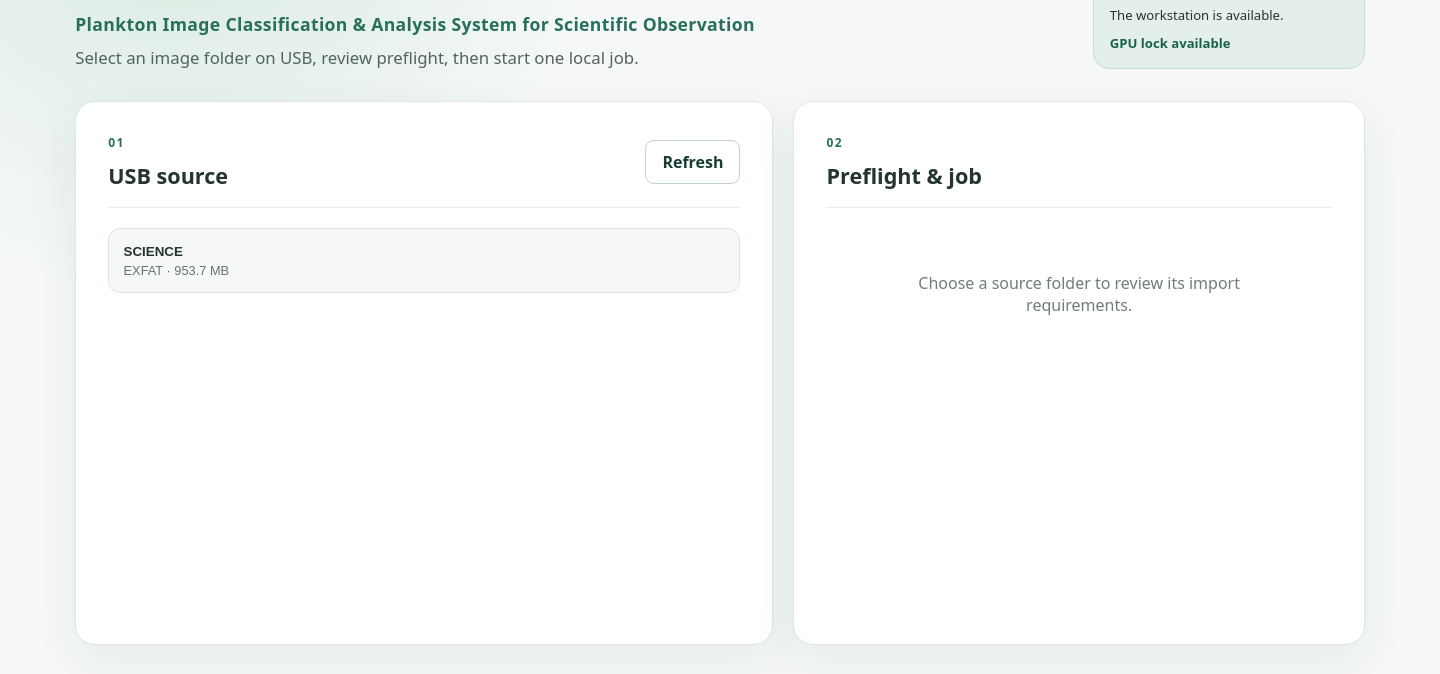
initial refusal USB host service request failed (503) preserves uncertainty where required
(page scrolled)
Click the button "SCIENCE EXFAT · 953.7 MB" at (153, 251), box top-left (108, 228), bottom-right (740, 293)
(page scrolled)
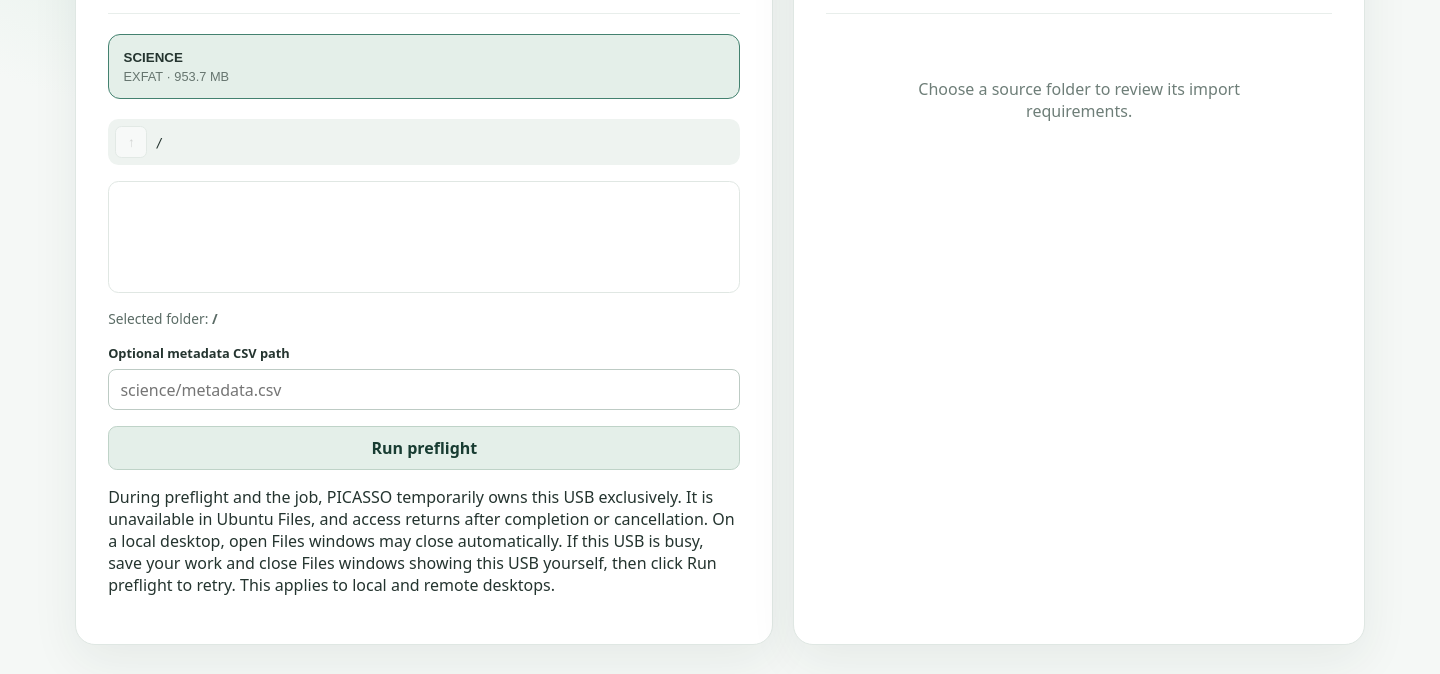
Click the button "Run preflight" at (424, 448), box top-left (108, 426), bottom-right (740, 470)
(page scrolled)
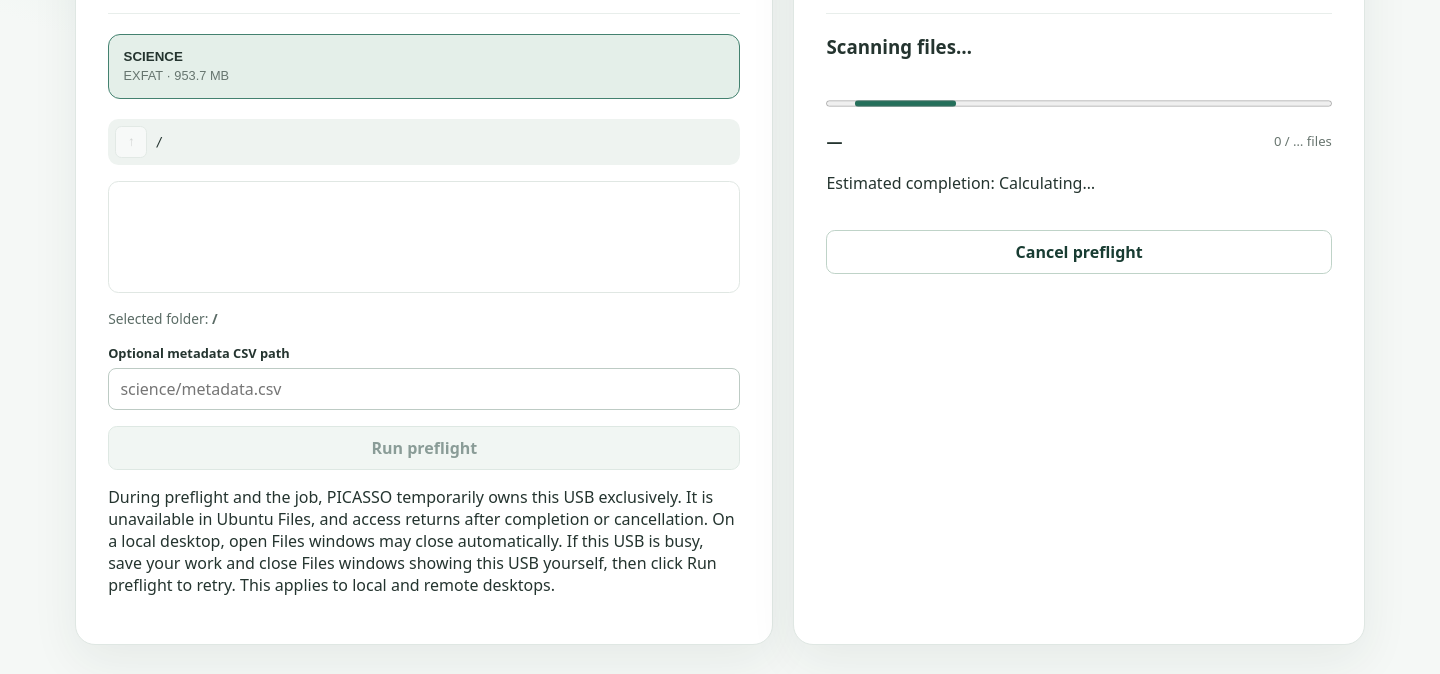
Expected: the button "Cancel preflight" is shown, top-left (826, 230), bottom-right (1332, 274)
Expected: the button "Run preflight" is disabled, top-left (108, 426), bottom-right (740, 470)
